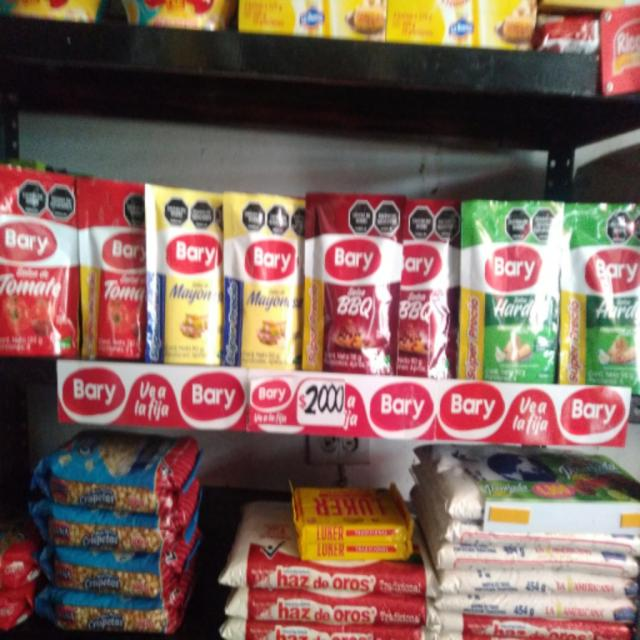BBQ: (311, 196, 402, 373), (399, 201, 460, 376)
Mayonesa: (144, 185, 227, 368), (227, 197, 309, 373)
Precio: (296, 379, 349, 429)
Tomate: (1, 167, 81, 357), (82, 177, 147, 356)
